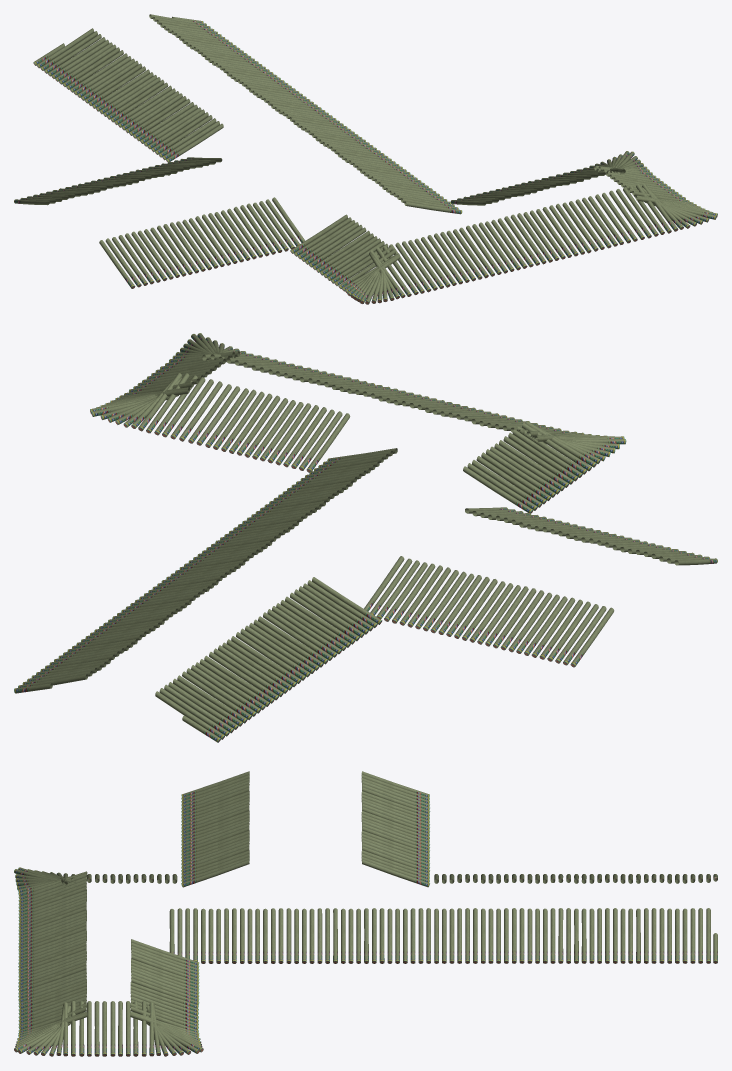
The model's file is SM_Seokkalae05E.fbx.
The picture shows the model from 3 angles, top to bottom: view 1: azimuth 30°, elevation 25°; view 2: azimuth 150°, elevation 25°; view 3: azimuth 270°, elevation 25°; orthographic projection. The views are drawn at different scales.
Parts seen in each view (by area): view 1: SM_Seokkalae05E; view 2: SM_Seokkalae05E; view 3: SM_Seokkalae05E.
Part boxes in pixels (x1,y1,x2,y2): SM_Seokkalae05E: [14, 14, 717, 304]; SM_Seokkalae05E: [14, 333, 717, 742]; SM_Seokkalae05E: [14, 771, 717, 1056].
Bounding box in the file's own units: 2204 × 2504 × 110.
